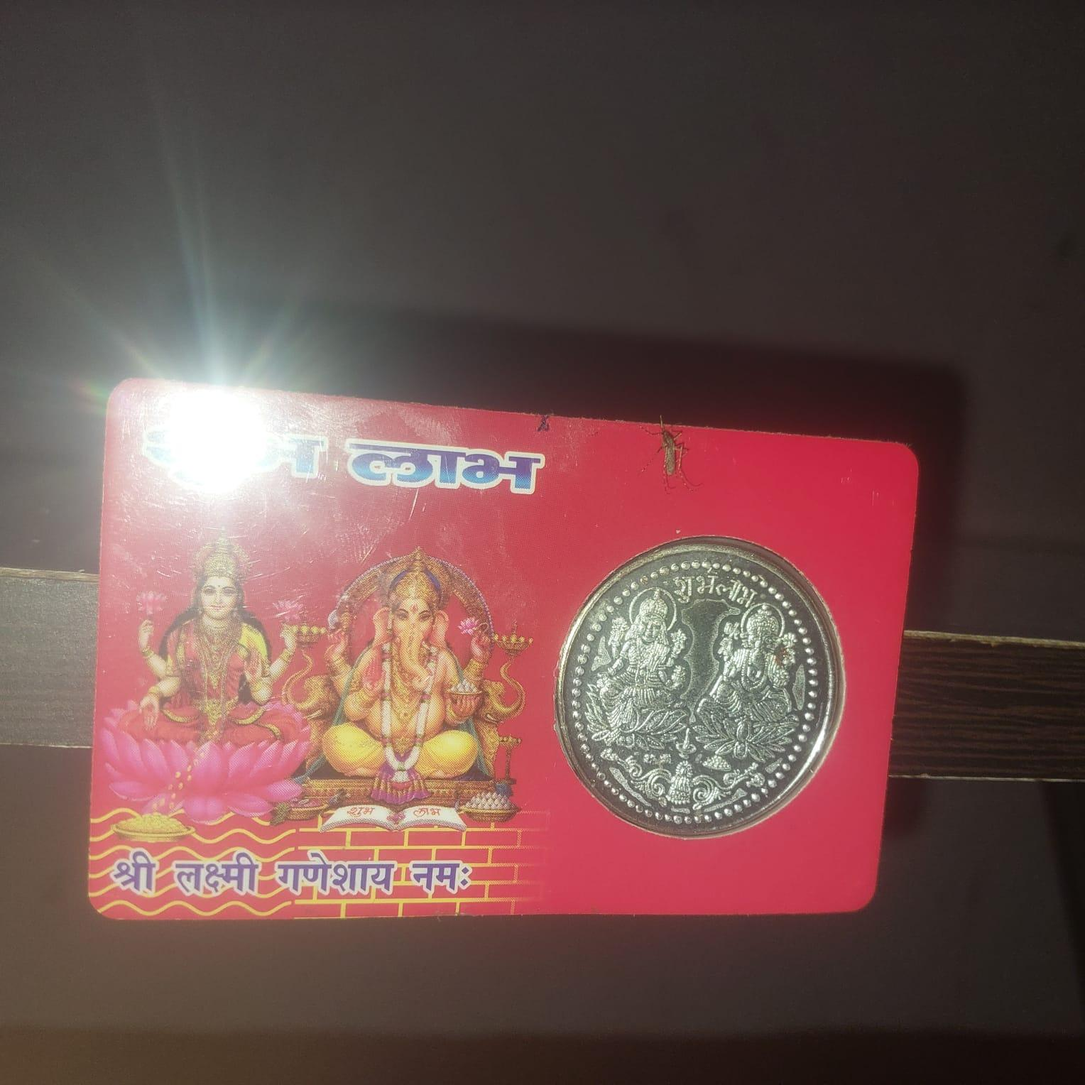blessing_card: (82, 374, 930, 931)
